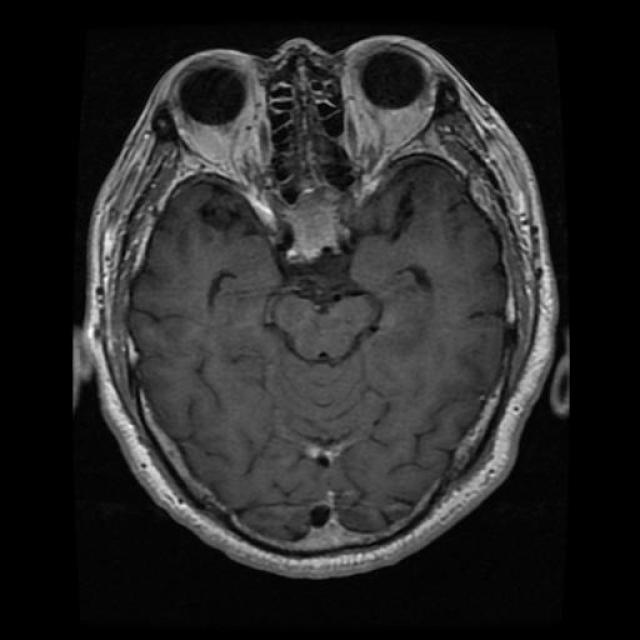pituitary: (247, 175, 366, 306)
